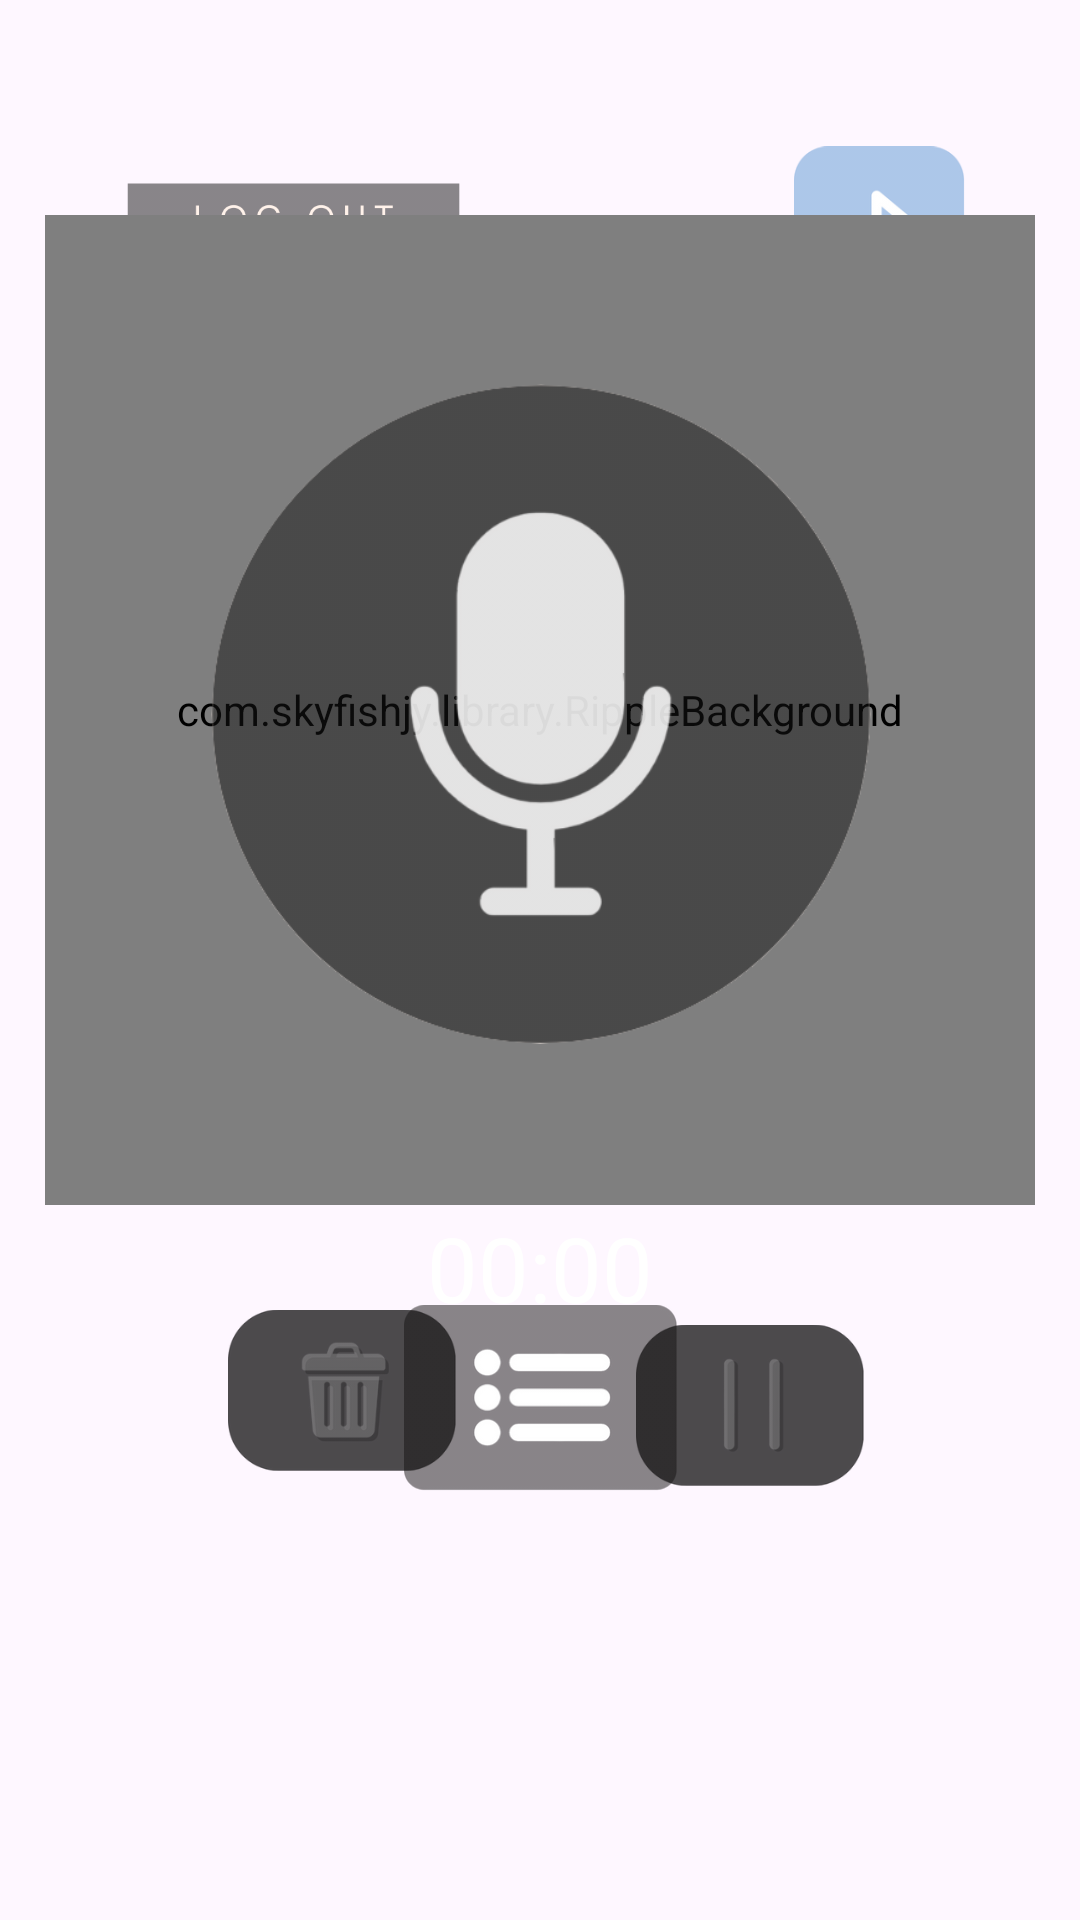

Where icons sit on this 1080×1920 app screen, as (x1, y1, x2, y2):
pause locked: (636, 1317, 864, 1490)
recordinglist states: (404, 1305, 677, 1490)
